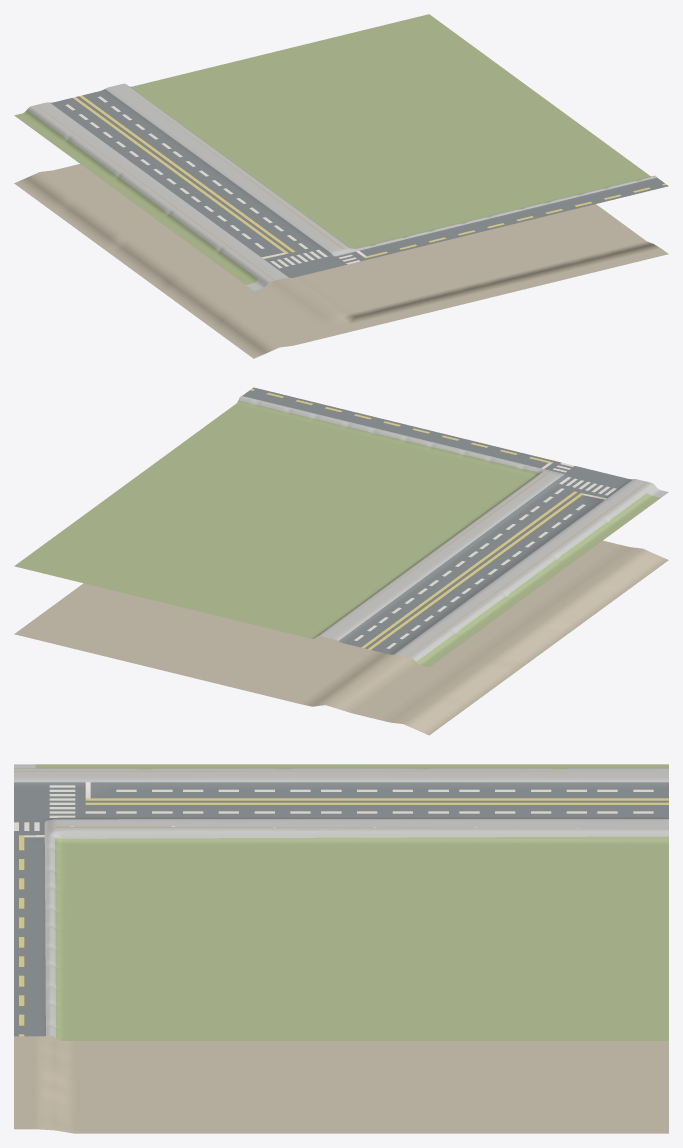
The picture shows the model from 3 angles, top to bottom: view 1: azimuth 30°, elevation 25°; view 2: azimuth 150°, elevation 25°; view 3: azimuth 270°, elevation 25°; orthographic projection. The views are drawn at different scales.
Visible parts, largest first — view 1: s_-11_3__grass, s_-11_3__soil, s_-11_3__asphalt, s_-11_3__stone_paving, s_-11_3__yellow_marking, s_-11_3__white_marking, s_-11_3__timber_deck; view 2: s_-11_3__grass, s_-11_3__soil, s_-11_3__asphalt, s_-11_3__stone_paving, s_-11_3__yellow_marking, s_-11_3__white_marking, s_-11_3__timber_deck; view 3: s_-11_3__grass, s_-11_3__soil, s_-11_3__asphalt, s_-11_3__stone_paving, s_-11_3__yellow_marking, s_-11_3__white_marking, s_-11_3__timber_deck.
Boxes of the visible parts, bbox=[...] form: s_-11_3__grass: bbox=[14, 14, 650, 284]; s_-11_3__soil: bbox=[14, 164, 668, 358]; s_-11_3__asphalt: bbox=[50, 89, 668, 277]; s_-11_3__stone_paving: bbox=[27, 83, 656, 290]; s_-11_3__yellow_marking: bbox=[72, 95, 666, 258]; s_-11_3__white_marking: bbox=[65, 96, 366, 268]; s_-11_3__timber_deck: bbox=[36, 91, 343, 280]; s_-11_3__grass: bbox=[14, 400, 660, 667]; s_-11_3__soil: bbox=[14, 540, 668, 735]; s_-11_3__asphalt: bbox=[242, 387, 632, 654]; s_-11_3__stone_paving: bbox=[238, 396, 668, 661]; s_-11_3__yellow_marking: bbox=[250, 389, 583, 649]; s_-11_3__white_marking: bbox=[354, 462, 616, 648]; s_-11_3__timber_deck: bbox=[326, 472, 647, 657]; s_-11_3__grass: bbox=[35, 764, 668, 1040]; s_-11_3__soil: bbox=[14, 1035, 668, 1133]; s_-11_3__asphalt: bbox=[14, 782, 668, 1036]; s_-11_3__stone_paving: bbox=[14, 764, 668, 1037]; s_-11_3__yellow_marking: bbox=[19, 798, 668, 1036]; s_-11_3__white_marking: bbox=[14, 782, 653, 837]; s_-11_3__timber_deck: bbox=[14, 771, 668, 828].
Size of the model in its own units: 128 by 21.51 by 128.
